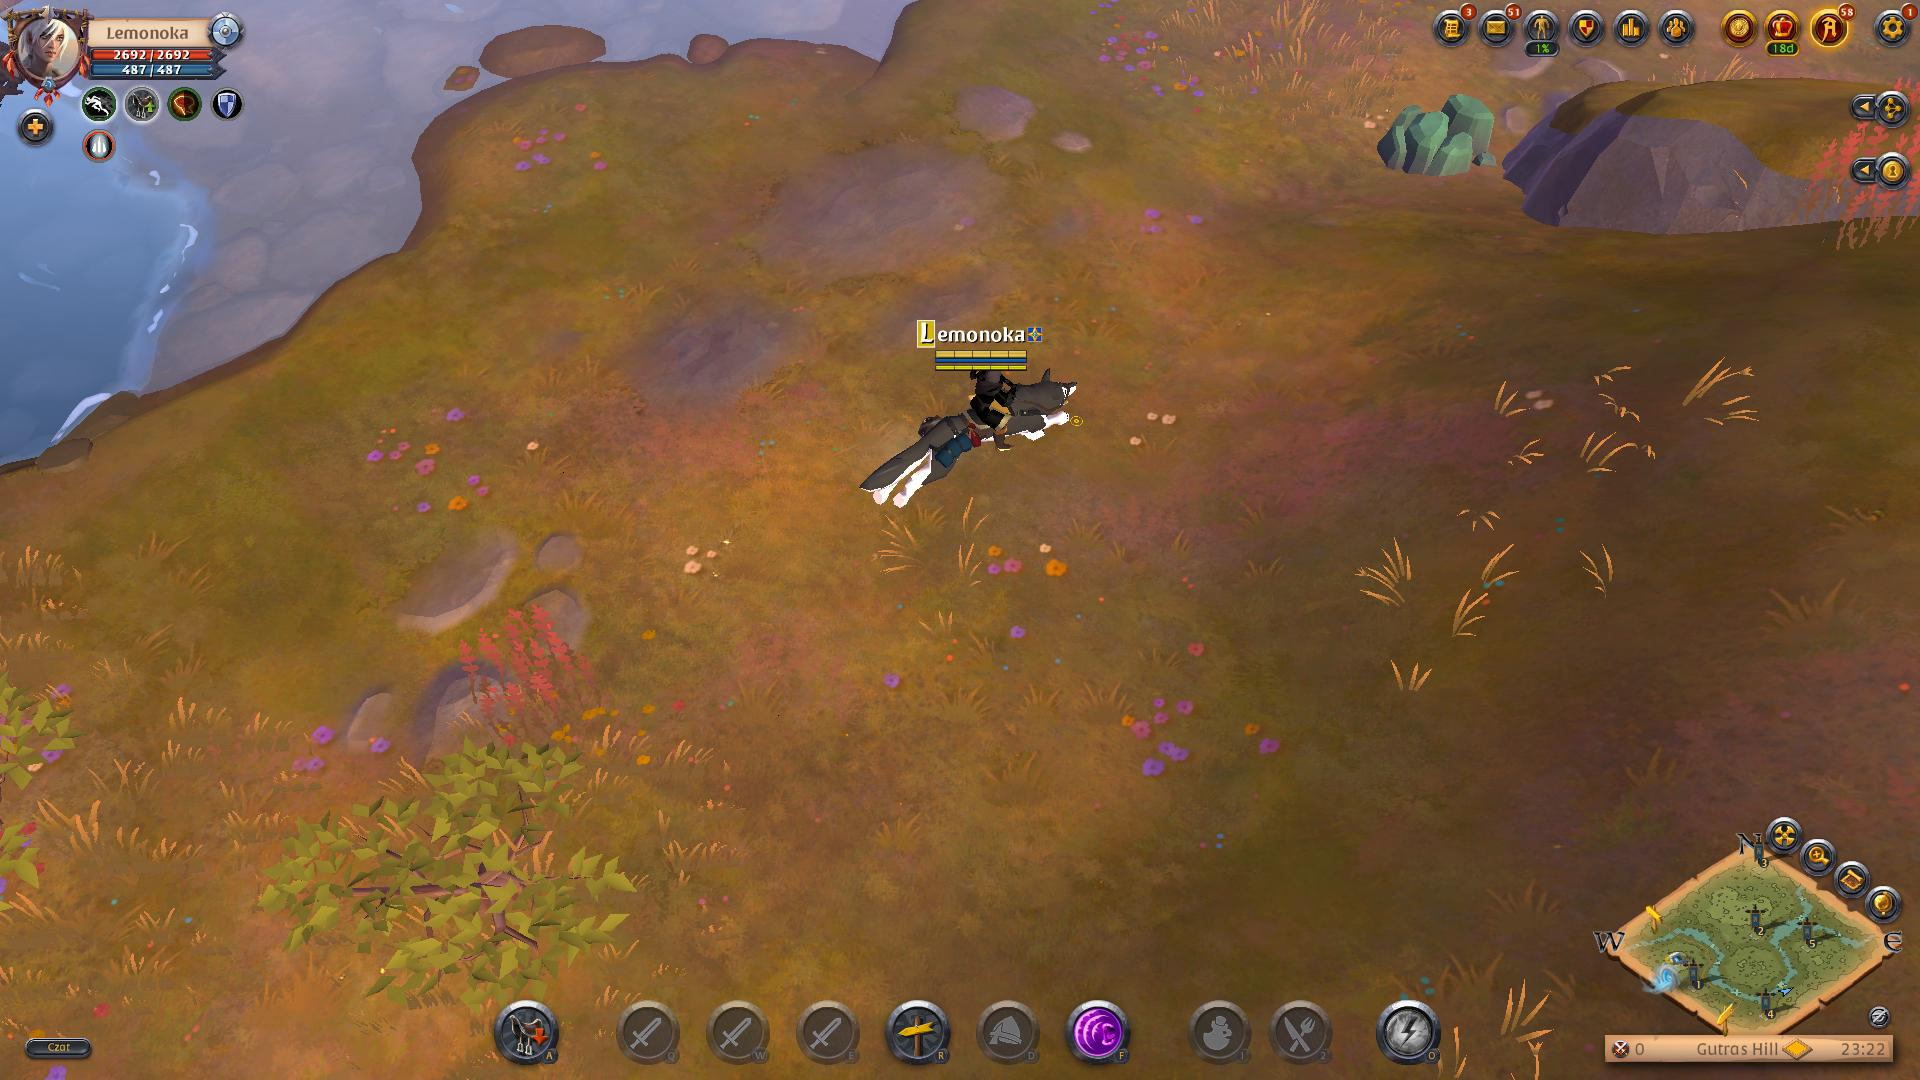rock tier 3: (1375, 87, 1505, 185)
